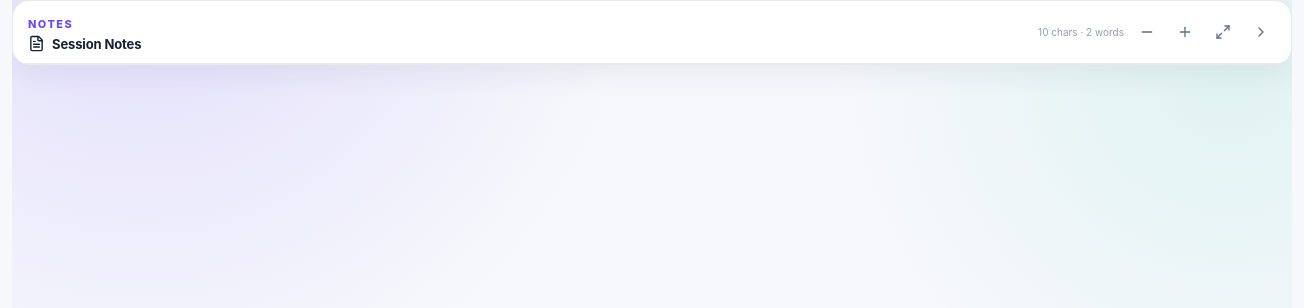
SessionNotesPanel › toggles expanded state when clicked
Click the button named "Expand session notes panel".
click(1261, 32)  # box x1=1246 y1=17 x2=1276 y2=47
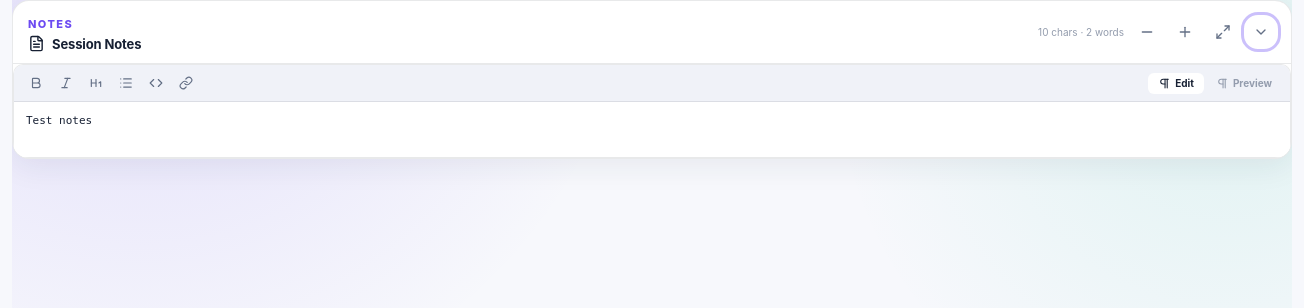
Expected: the button named "Collapse session notes panel" is expanded, x1=1246 y1=17 x2=1276 y2=47
